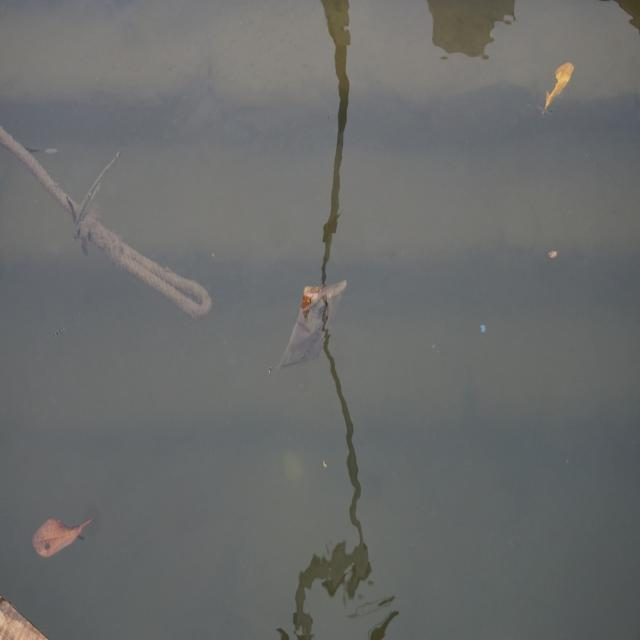Bungkus Makanan: (277, 274, 351, 383)
